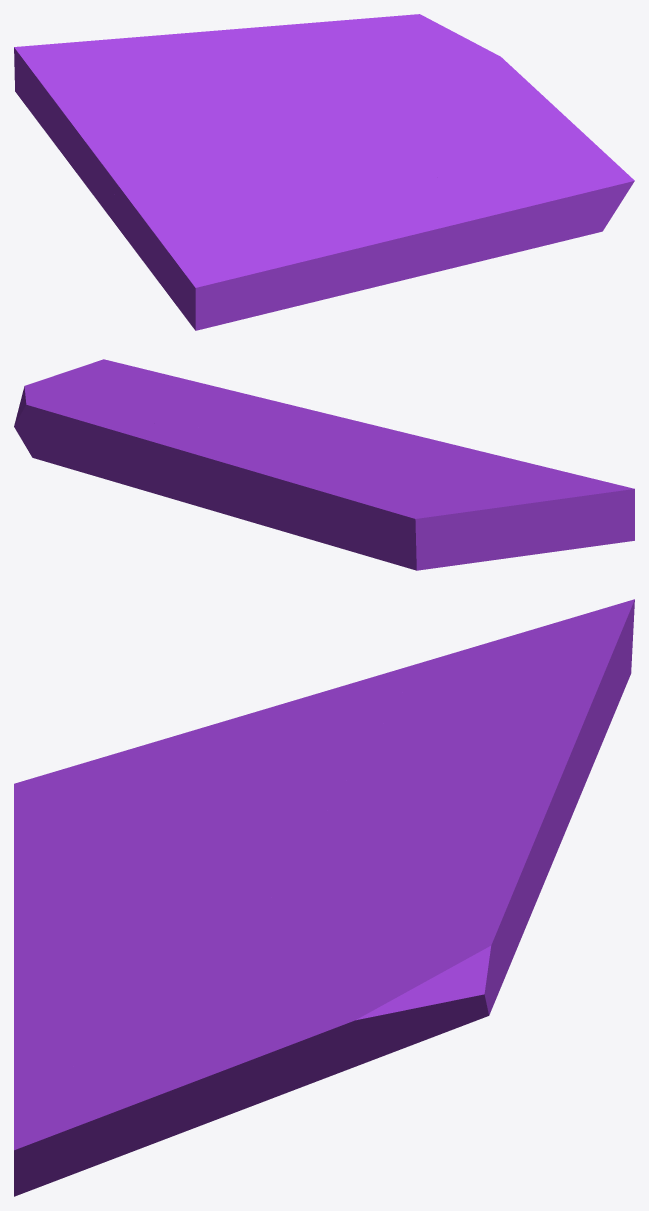
The model's file is Window_152_0_chunks.fbx.
The picture shows the model from 3 angles, top to bottom: view 1: azimuth 30°, elevation 25°; view 2: azimuth 150°, elevation 25°; view 3: azimuth 270°, elevation 25°; orthographic projection. The views are drawn at different scales.
Visible parts, largest first — view 1: Window_152_0_10, Window_152_0_3, Window_152_0_9, Window_152_0_25, Window_152_0_4, Window_152_0_6, Window_152_0_7, Window_152_0_24, Window_152_0_1, Window_152_0_26, Window_152_0_2, Window_152_0_8 (+6 smaller); view 2: Window_152_0_1, Window_152_0_4, Window_152_0_3, Window_152_0_10, Window_152_0_6, Window_152_0_19, Window_152_0_18, Window_152_0_15, Window_152_0_7, Window_152_0_25, Window_152_0_8, Window_152_0_26 (+11 smaller); view 3: Window_152_0_10, Window_152_0_3, Window_152_0_8, Window_152_0_6, Window_152_0_9, Window_152_0_4, Window_152_0_7, Window_152_0_1, Window_152_0_25, Window_152_0_2, Window_152_0_26, Window_152_0_23 (+6 smaller).
Part boxes in pixels (left/top/right/bottom): Window_152_0_10: left=435, top=62, right=634, bottom=200; Window_152_0_3: left=52, top=129, right=279, bottom=217; Window_152_0_9: left=429, top=137, right=621, bottom=264; Window_152_0_25: left=279, top=172, right=464, bottom=285; Window_152_0_4: left=14, top=40, right=151, bottom=132; Window_152_0_6: left=94, top=31, right=362, bottom=92; Window_152_0_7: left=355, top=61, right=449, bottom=202; Window_152_0_24: left=181, top=253, right=379, bottom=330; Window_152_0_1: left=230, top=15, right=409, bottom=78; Window_152_0_26: left=171, top=173, right=289, bottom=306; Window_152_0_2: left=253, top=131, right=415, bottom=189; Window_152_0_8: left=376, top=14, right=506, bottom=92; Window_152_0_1: left=27, top=407, right=222, bottom=498; Window_152_0_4: left=330, top=485, right=490, bottom=567; Window_152_0_3: left=346, top=456, right=556, bottom=553; Window_152_0_10: left=29, top=359, right=190, bottom=406; Window_152_0_6: left=173, top=425, right=369, bottom=514; Window_152_0_19: left=522, top=481, right=619, bottom=553; Window_152_0_18: left=198, top=458, right=290, bottom=529; Window_152_0_15: left=276, top=487, right=435, bottom=570; Window_152_0_7: left=134, top=406, right=307, bottom=431; Window_152_0_25: left=300, top=413, right=436, bottom=456; Window_152_0_8: left=14, top=384, right=135, bottom=446; Window_152_0_26: left=388, top=456, right=630, bottom=535; Window_152_0_10: left=14, top=968, right=338, bottom=1168; Window_152_0_3: left=163, top=662, right=421, bottom=842; Window_152_0_8: left=292, top=913, right=494, bottom=1088; Window_152_0_6: left=381, top=667, right=606, bottom=903; Window_152_0_9: left=14, top=975, right=297, bottom=1196; Window_152_0_4: left=392, top=599, right=634, bottom=723; Window_152_0_7: left=76, top=903, right=411, bottom=985; Window_152_0_1: left=382, top=784, right=558, bottom=997; Window_152_0_25: left=14, top=842, right=220, bottom=998; Window_152_0_2: left=110, top=815, right=323, bottom=962; Window_152_0_26: left=27, top=758, right=220, bottom=855; Window_152_0_23: left=14, top=782, right=140, bottom=920.
Bounding box in the file's own units: 1074 × 352 × 768.
